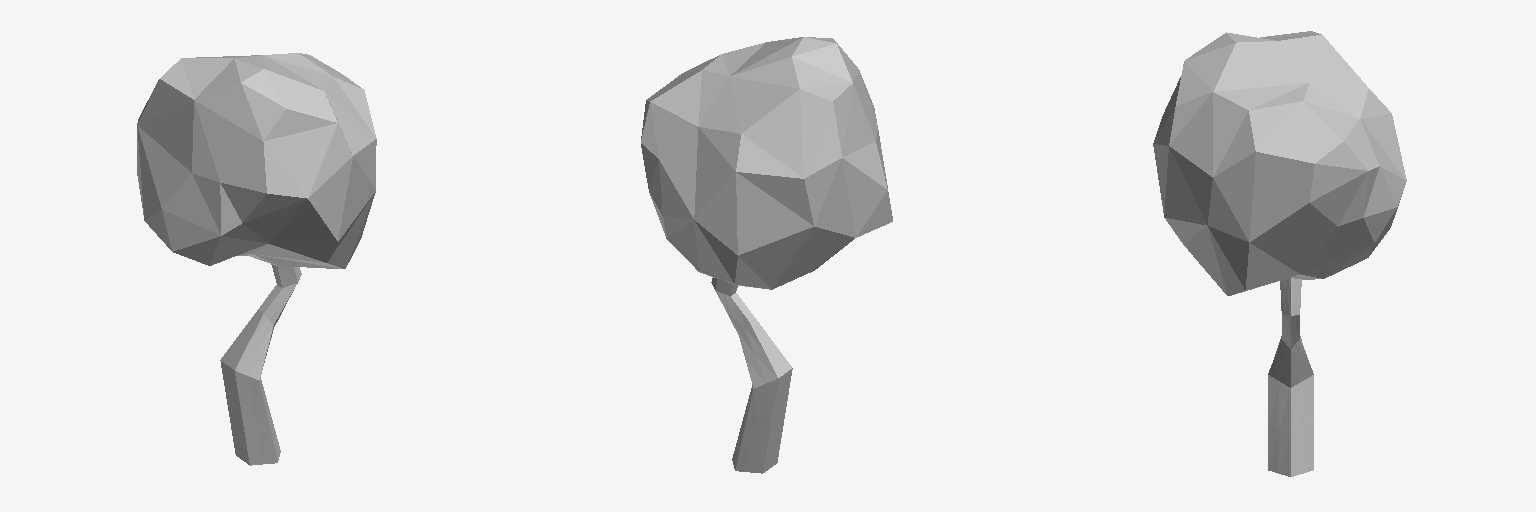
The model's file is tree2.obj.
The picture shows the model from 3 angles: view 1: azimuth 30°, elevation 25°; view 2: azimuth 150°, elevation 25°; view 3: azimuth 270°, elevation 25°; orthographic projection.
Parts seen in each view (by area): view 1: Hedra001, Cylinder002; view 2: Hedra001, Cylinder002; view 3: Hedra001, Cylinder002.
Boxes of the visible parts, <box> form: Hedra001: <box>137,53,376,268</box>; Cylinder002: <box>220,264,301,465</box>; Hedra001: <box>641,37,892,289</box>; Cylinder002: <box>711,277,792,473</box>; Hedra001: <box>1153,31,1406,295</box>; Cylinder002: <box>1268,278,1313,476</box>.
Bounding box in the file's own units: 65.79 × 121 × 67.59.